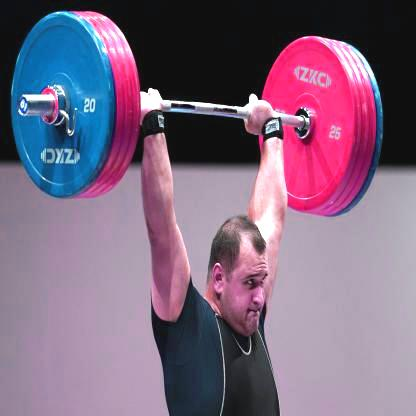barbell: (12, 12, 112, 199), (260, 36, 358, 213)
